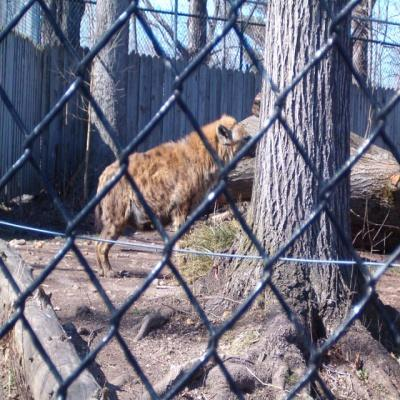hyenas: (89, 109, 261, 280)
